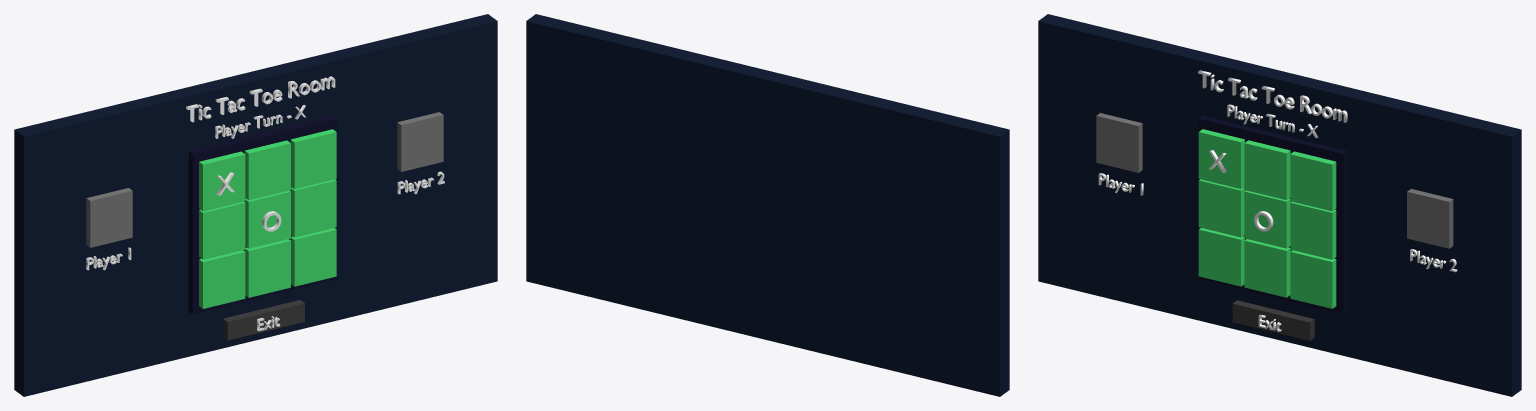
Rendered from ttt1.glb.
3 renders of one model, left to right at view 1: azimuth 30°, elevation 25°; view 2: azimuth 150°, elevation 25°; view 3: azimuth 330°, elevation 25°, orthographic.
Visible parts, largest first — view 1: Cube, Text, Text.001; view 2: Cube; view 3: Cube, Text, Text.001.
Boxes of the visible parts, left/top/right/bottom form: Cube: left=14, top=14, right=497, bottom=396; Text: left=186, top=76, right=335, bottom=122; Text.001: left=215, top=105, right=305, bottom=138; Cube: left=526, top=14, right=1009, bottom=396; Cube: left=1038, top=14, right=1521, bottom=396; Text: left=1198, top=70, right=1347, bottom=122; Text.001: left=1227, top=104, right=1318, bottom=138.
Size of the model in its own units: 20.08 by 10.54 by 1.61.
